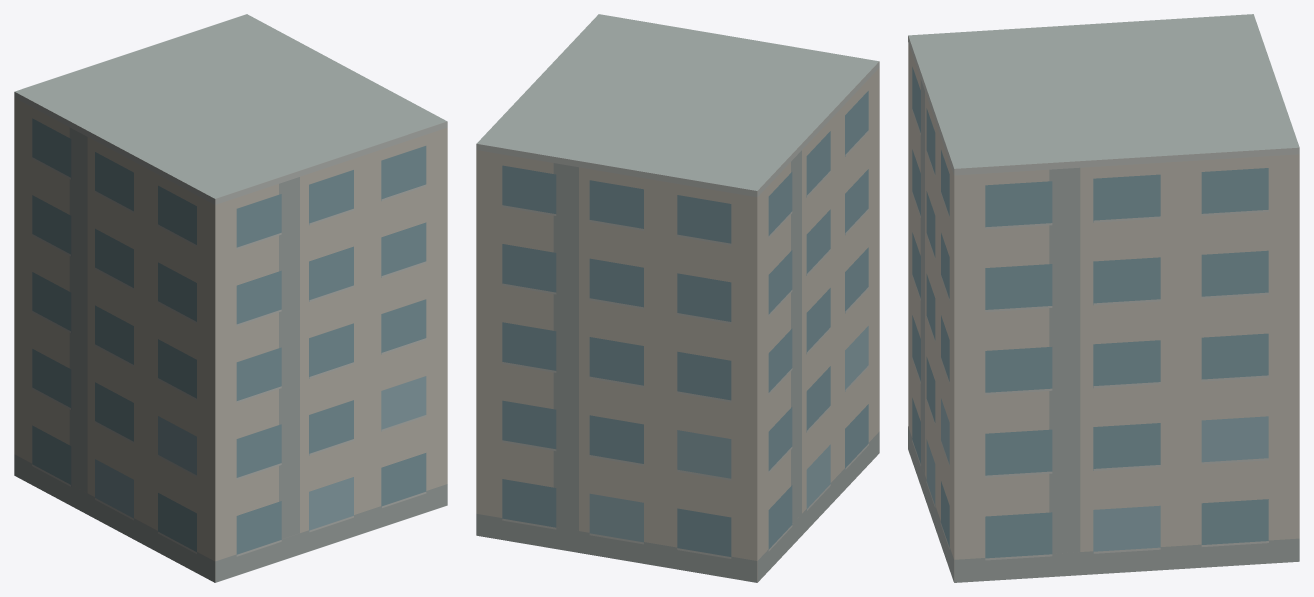
File: residential-f7a5a0e0-ce12-4e66-9ebf-ecb7a3608fc0.glb
The picture shows the model from 3 angles, left to right: view 1: azimuth 30°, elevation 25°; view 2: azimuth 150°, elevation 25°; view 3: azimuth 270°, elevation 25°; orthographic projection. The views are drawn at different scales.
Parts seen in each view (by area): view 1: residential-f7a5a0e0-ce12-4e66-9ebf-ecb7a3608fc0.tmp; view 2: residential-f7a5a0e0-ce12-4e66-9ebf-ecb7a3608fc0.tmp; view 3: residential-f7a5a0e0-ce12-4e66-9ebf-ecb7a3608fc0.tmp.
Boxes of the visible parts, x1,y1,x2,y2 form: residential-f7a5a0e0-ce12-4e66-9ebf-ecb7a3608fc0.tmp: (14,14,447,582); residential-f7a5a0e0-ce12-4e66-9ebf-ecb7a3608fc0.tmp: (476,14,879,582); residential-f7a5a0e0-ce12-4e66-9ebf-ecb7a3608fc0.tmp: (908,14,1299,582).
Size of the model in its own units: 12.24 by 15.25 by 13.08.
